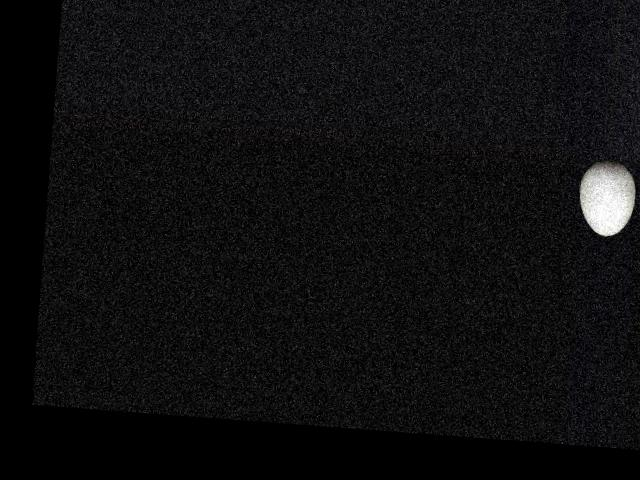egg: (577, 157, 637, 237)
